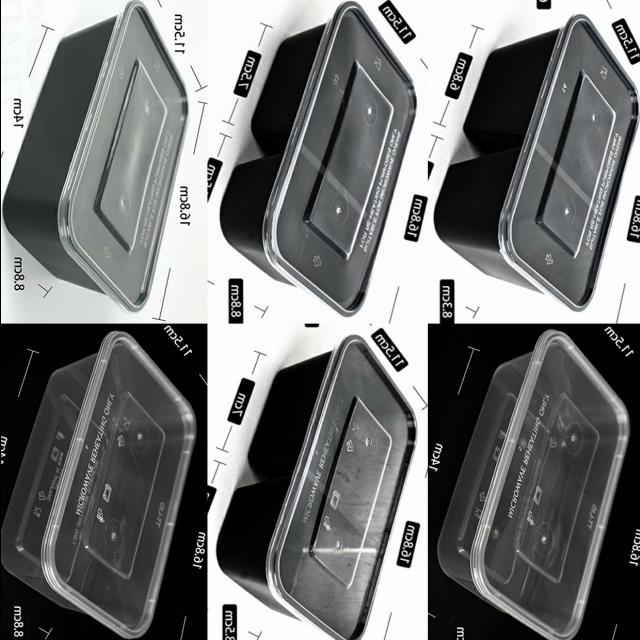plastik: (220, 2, 415, 317), (434, 15, 638, 312), (217, 336, 415, 640), (0, 331, 195, 638), (437, 330, 628, 640), (3, 1, 188, 313)
